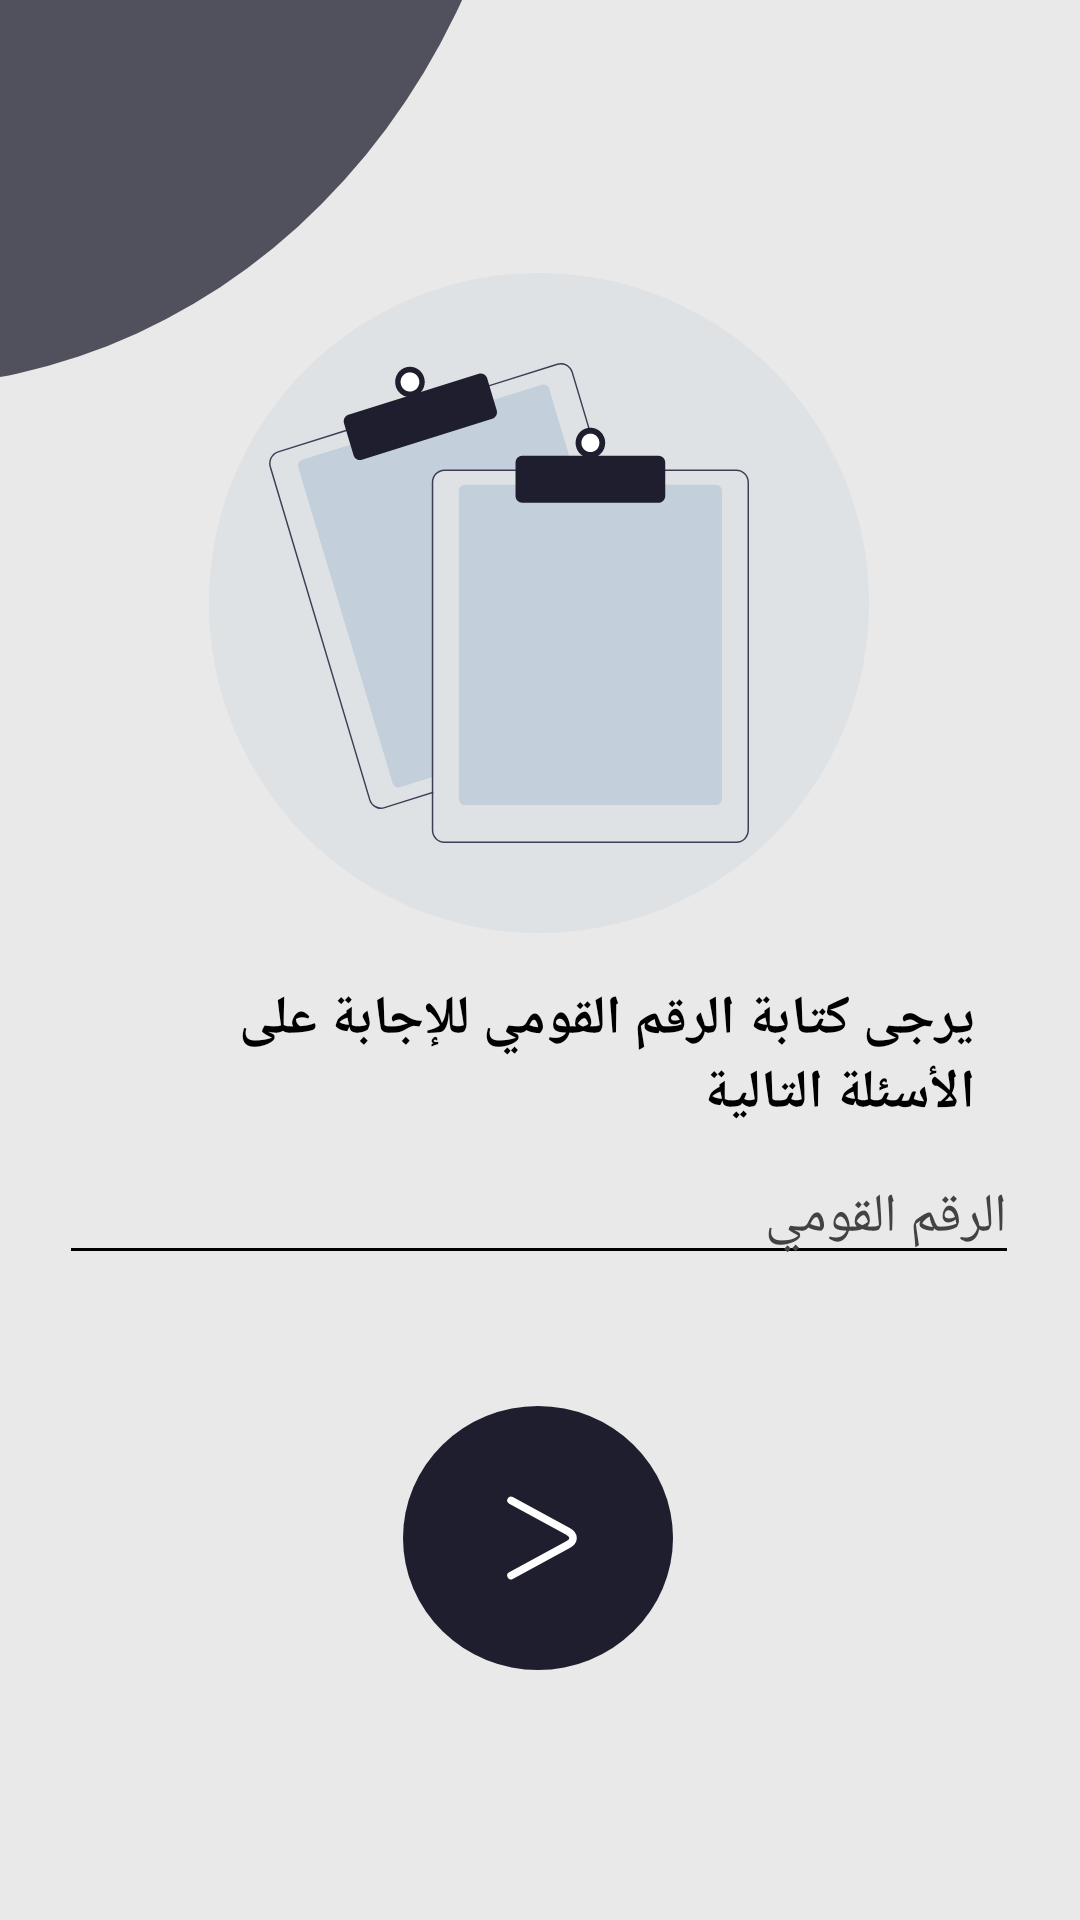

Icons on this 1080 × 1920 Android screen, each with its box as (x1, y1, x2, y2):
enter clk: (403, 1406, 673, 1670)
